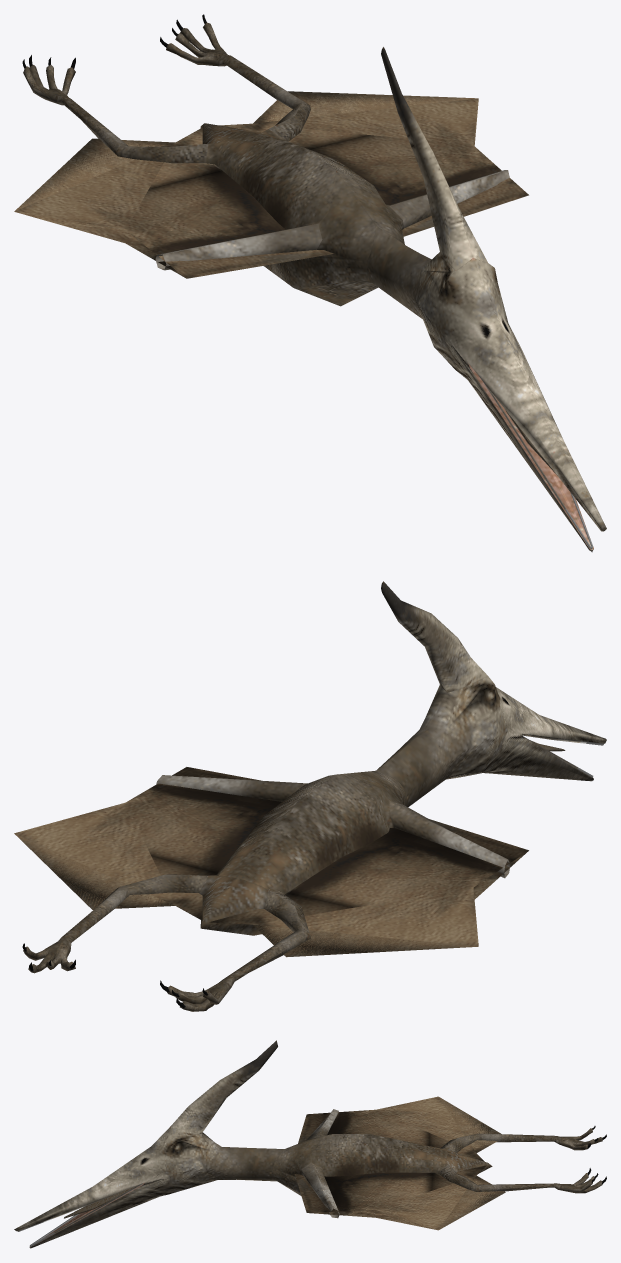
The model's file is CuerpoPtero.obj.
3 renders of one model, top to bottom at view 1: azimuth 30°, elevation 25°; view 2: azimuth 150°, elevation 25°; view 3: azimuth 270°, elevation 25°, orthographic. The views are drawn at different scales.
Visible parts, largest first — view 1: corpo1_corpo; view 2: corpo1_corpo; view 3: corpo1_corpo.
Boxes of the visible parts, x1,y1,x2,y2 form: corpo1_corpo: [14, 14, 606, 552]; corpo1_corpo: [14, 581, 606, 1011]; corpo1_corpo: [14, 1040, 606, 1248].
Size of the model in its own units: 348 by 253 by 651.
1 material, 1 textured.
